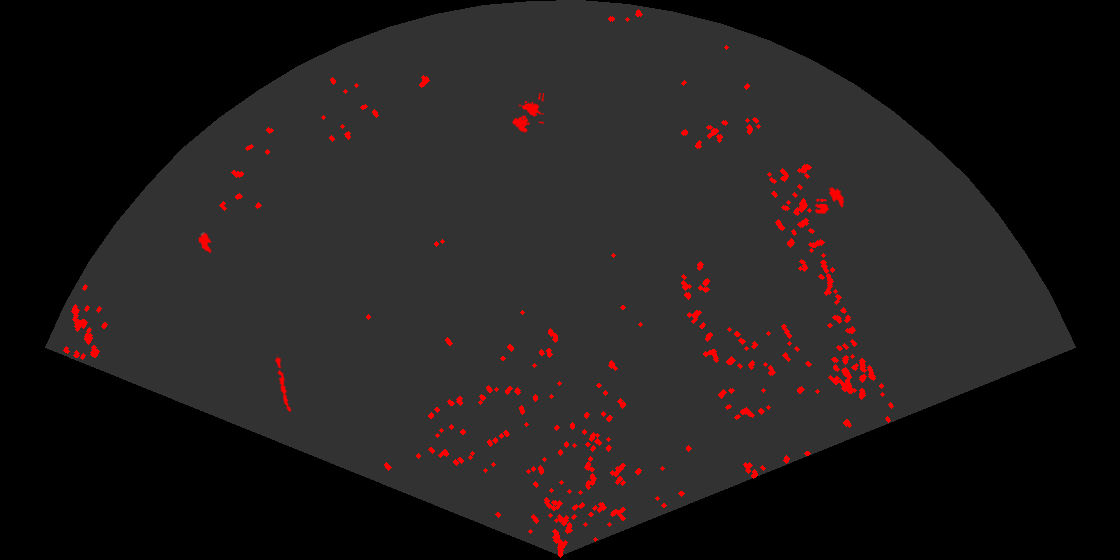AUV: (827, 185, 846, 209), (196, 231, 213, 255)
ball: (813, 197, 830, 215)
cage: (511, 93, 544, 135)
chain: (273, 355, 293, 414)
